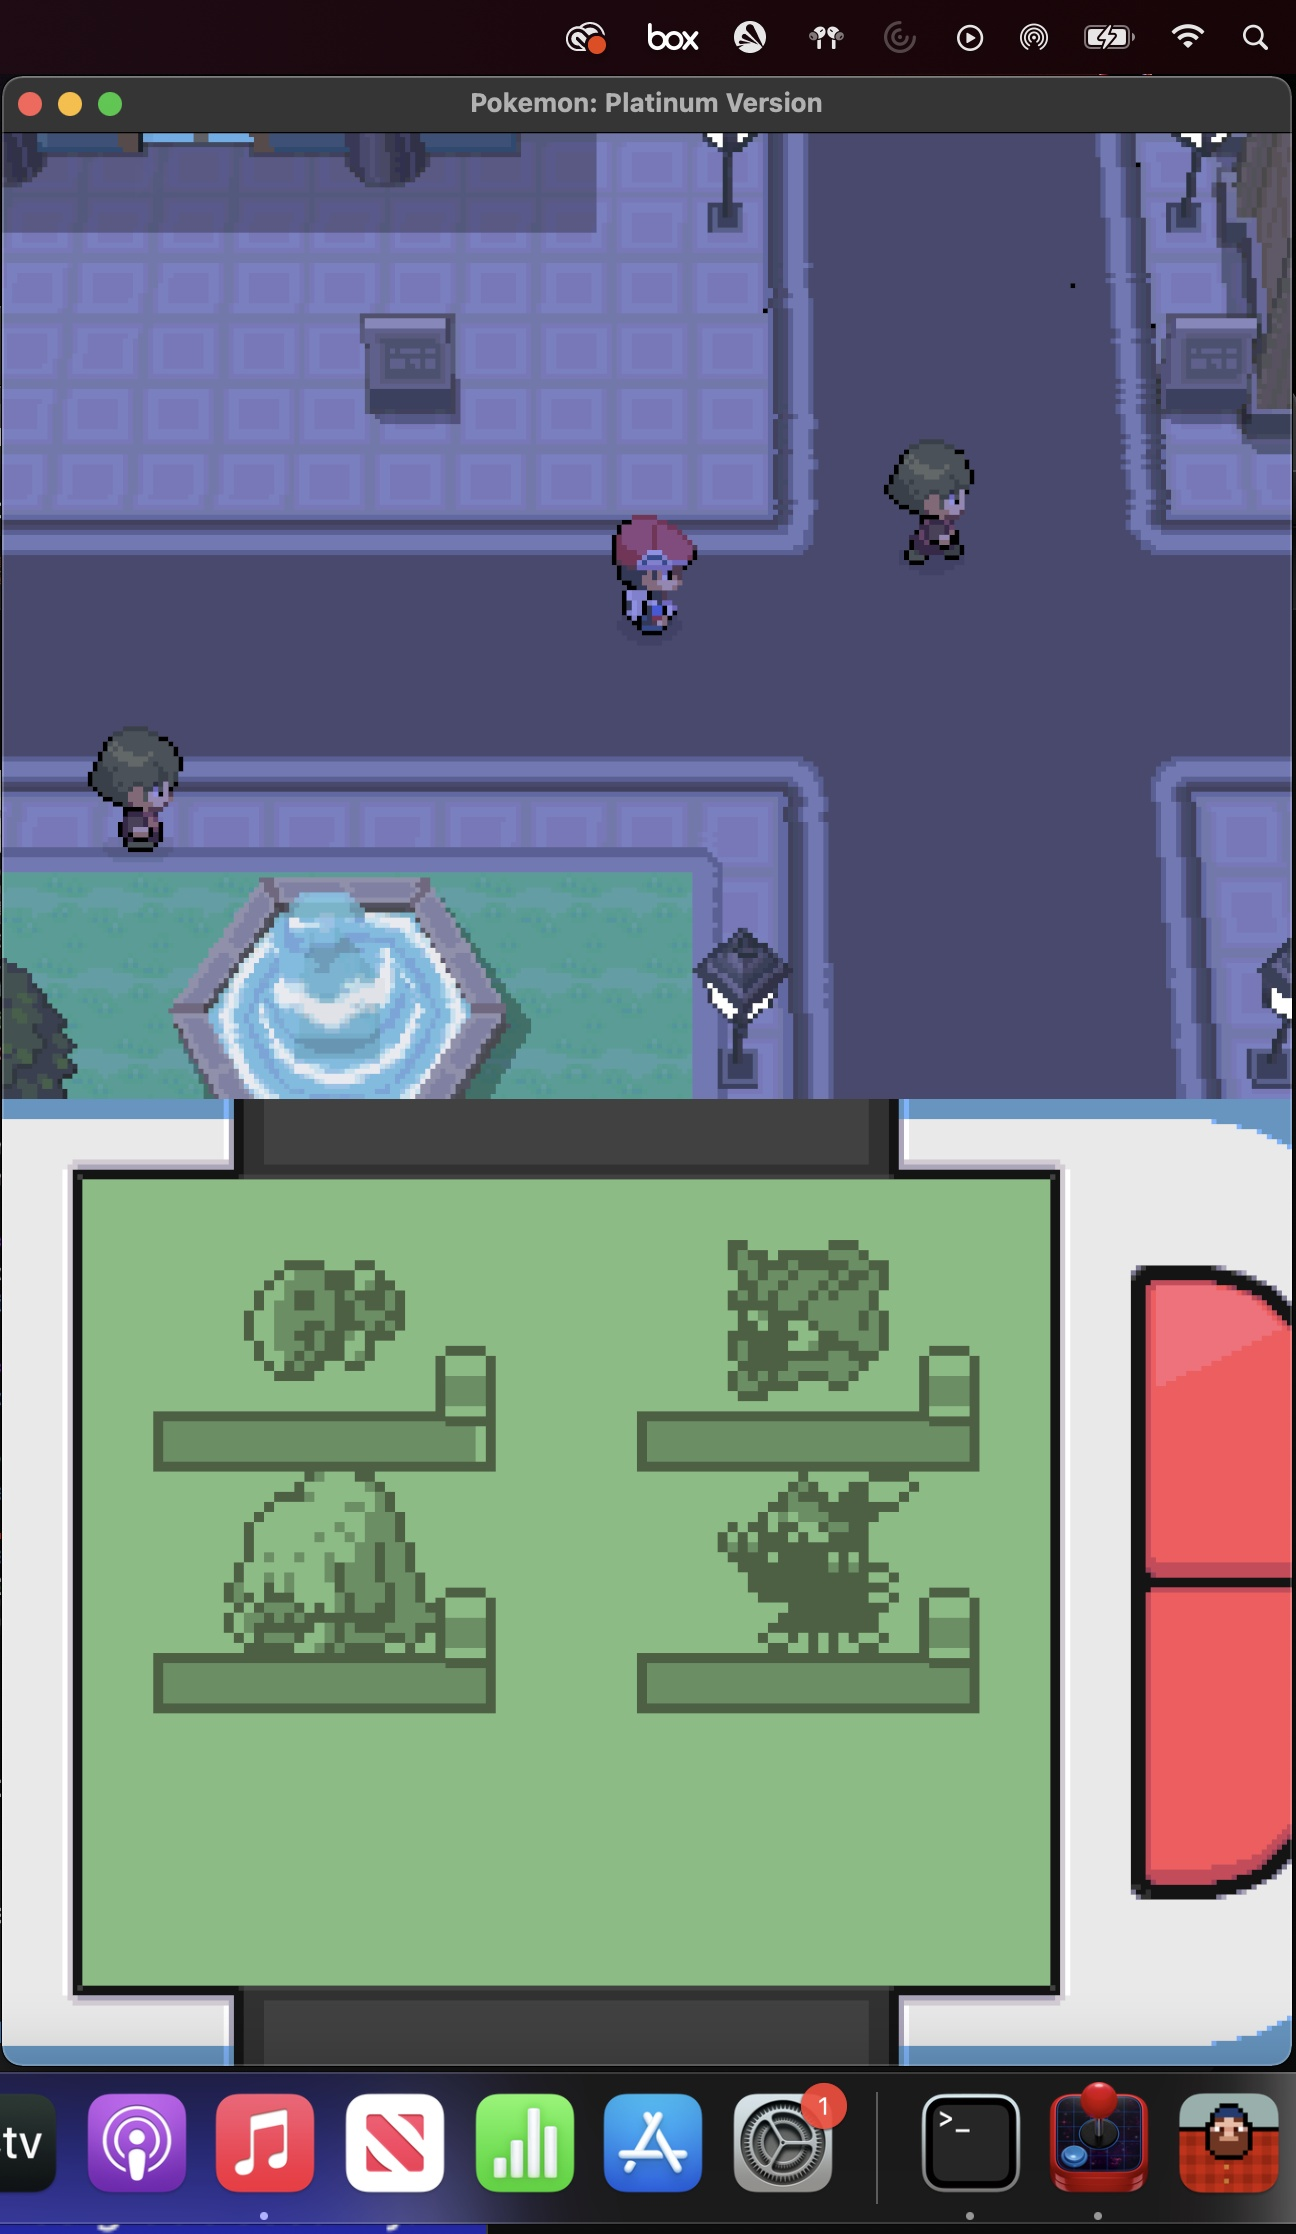player: (603, 517, 695, 646)
